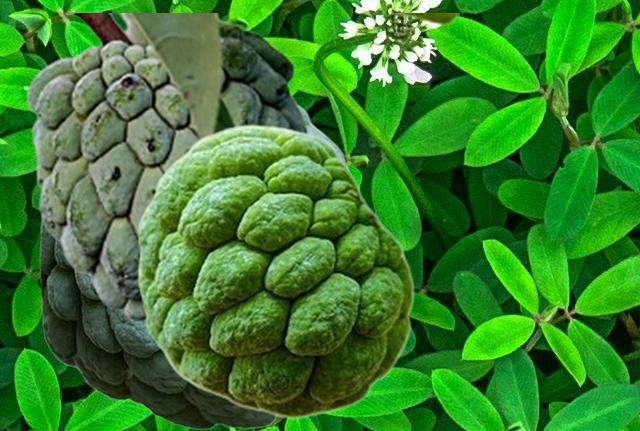atis: (25, 13, 458, 321), (39, 102, 354, 429), (137, 123, 414, 418)
